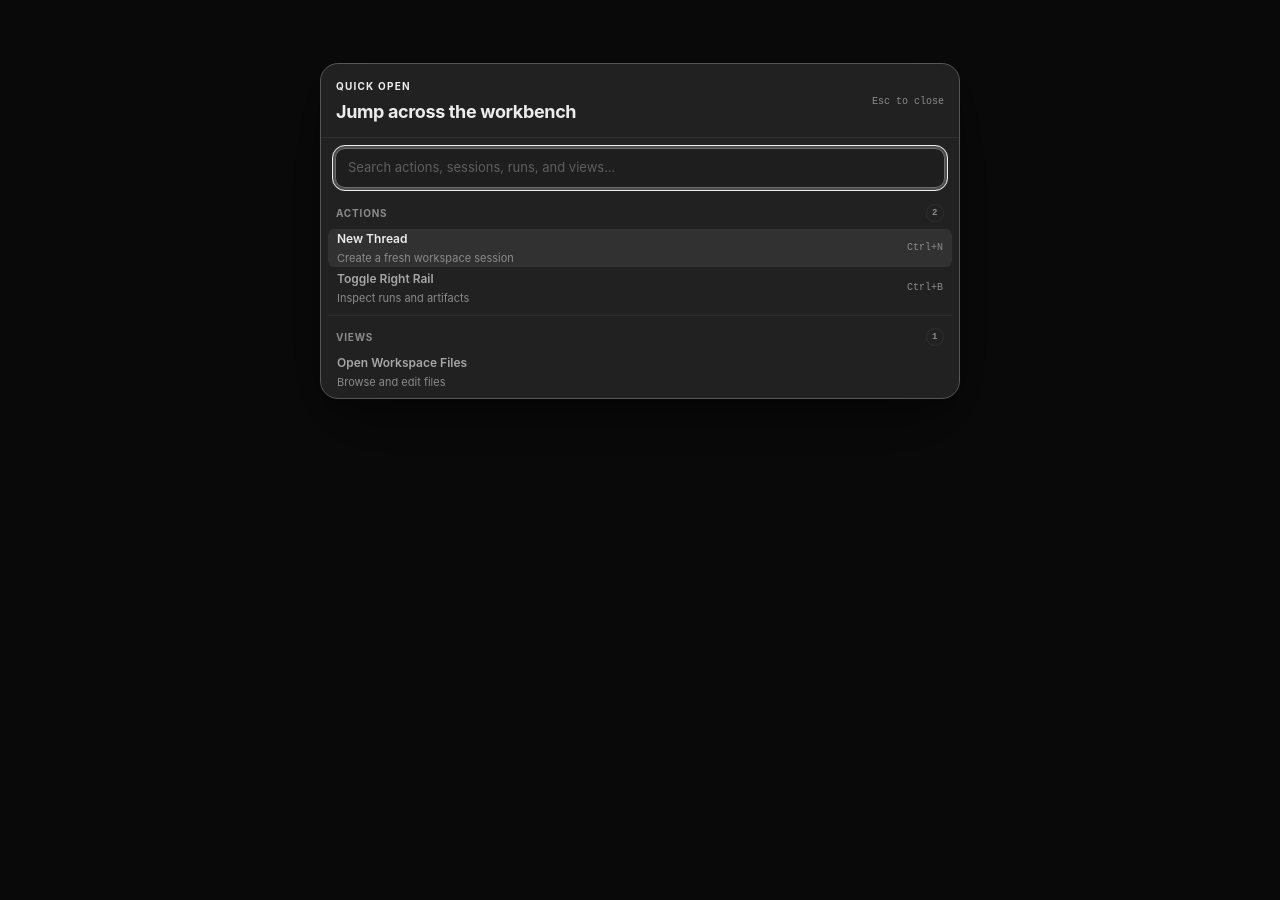
it: QuickOpen Component Tests › filters items by title, subtitle, or keywords
This screenshot has width=1280, height=900.
Type "explorer" into the field with placeholder "Search actions, sessions, runs, and views..." at (640, 168), box [335,148,945,188]
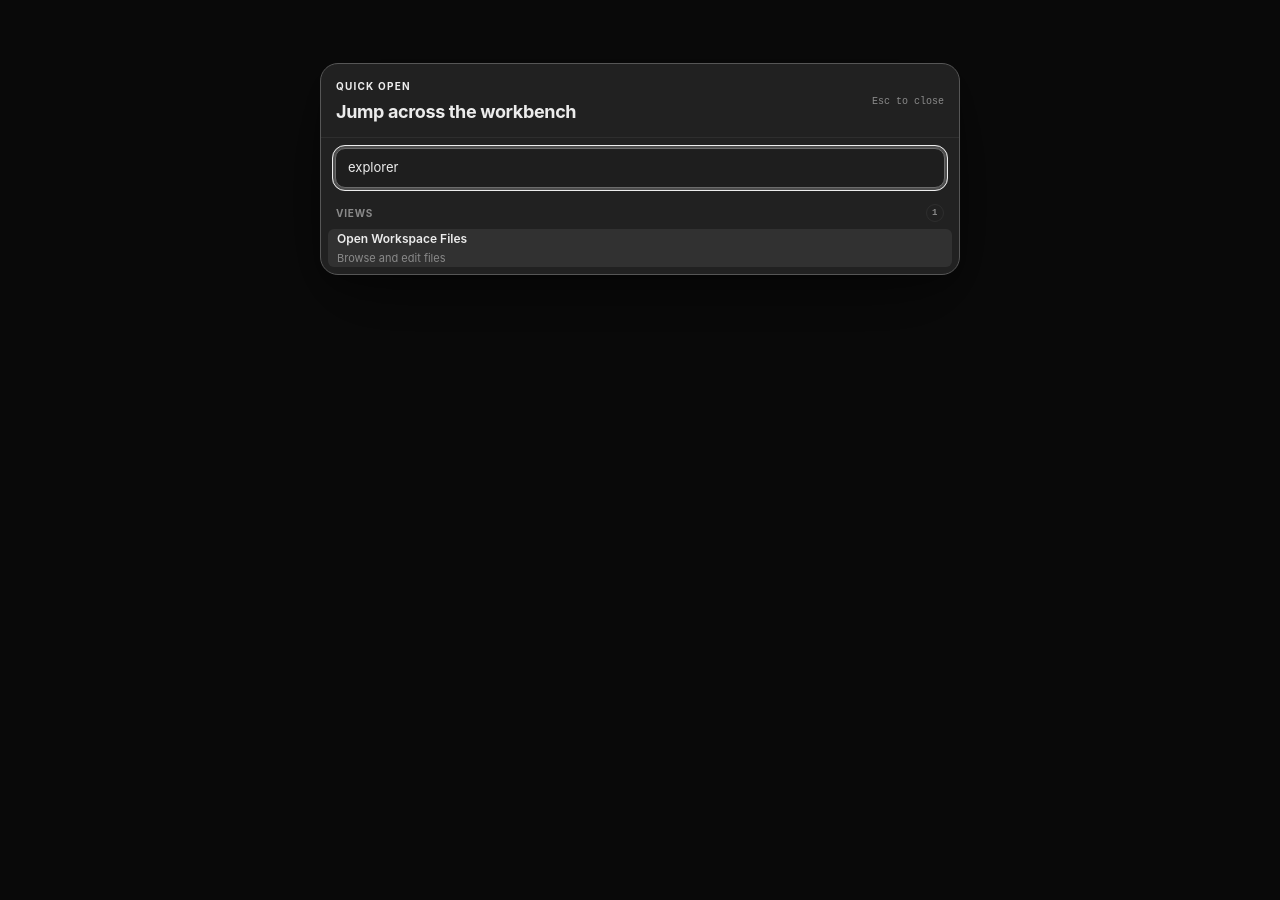
Check: the text "Open Workspace Files" is shown, box [337,231,467,246]
Check: the button "New Thread" is gone
